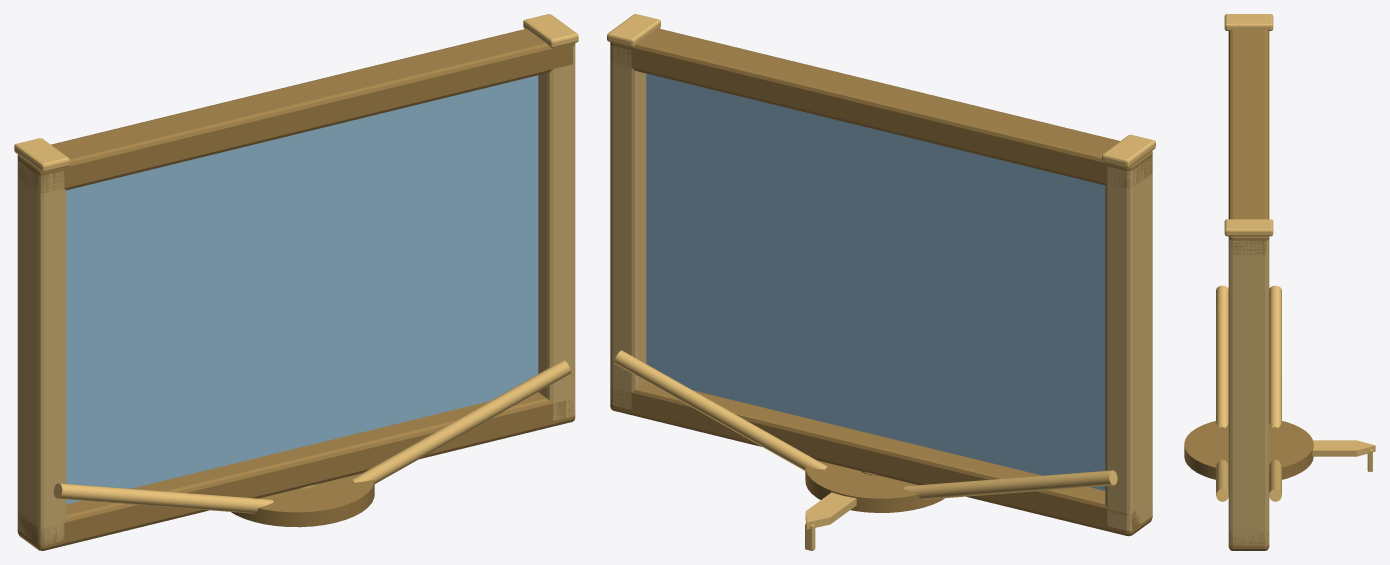
The model's file is mirror-head-v01.glb.
3 renders of one model, left to right at view 1: azimuth 30°, elevation 25°; view 2: azimuth 150°, elevation 25°; view 3: azimuth 270°, elevation 25°, orthographic. The views are drawn at different scales.
Parts seen in each view (by area): view 1: Shadow mirror glass 0, Shadow brass 2, Shadow gold 1, Shadow brass light 3; view 2: Shadow mirror glass 0, Shadow brass 2, Shadow gold 1, Shadow brass light 3; view 3: Shadow brass 2, Shadow gold 1, Shadow brass light 3.
Part boxes in pixels (x1=…): Shadow mirror glass 0: x1=66, y1=75, x2=538, y2=504; Shadow brass 2: x1=17, y1=29, x2=575, y2=550; Shadow gold 1: x1=17, y1=45, x2=575, y2=545; Shadow brass light 3: x1=14, y1=14, x2=578, y2=513; Shadow mirror glass 0: x1=646, y1=73, x2=1105, y2=490; Shadow brass 2: x1=610, y1=28, x2=1152, y2=536; Shadow gold 1: x1=610, y1=44, x2=1152, y2=530; Shadow brass light 3: x1=607, y1=14, x2=1155, y2=550; Shadow brass 2: x1=1184, y1=29, x2=1313, y2=550; Shadow gold 1: x1=1228, y1=239, x2=1269, y2=546; Shadow brass light 3: x1=1216, y1=14, x2=1375, y2=501.
Bounding box in the file's own units: 1.9 × 1.43 × 0.71.
